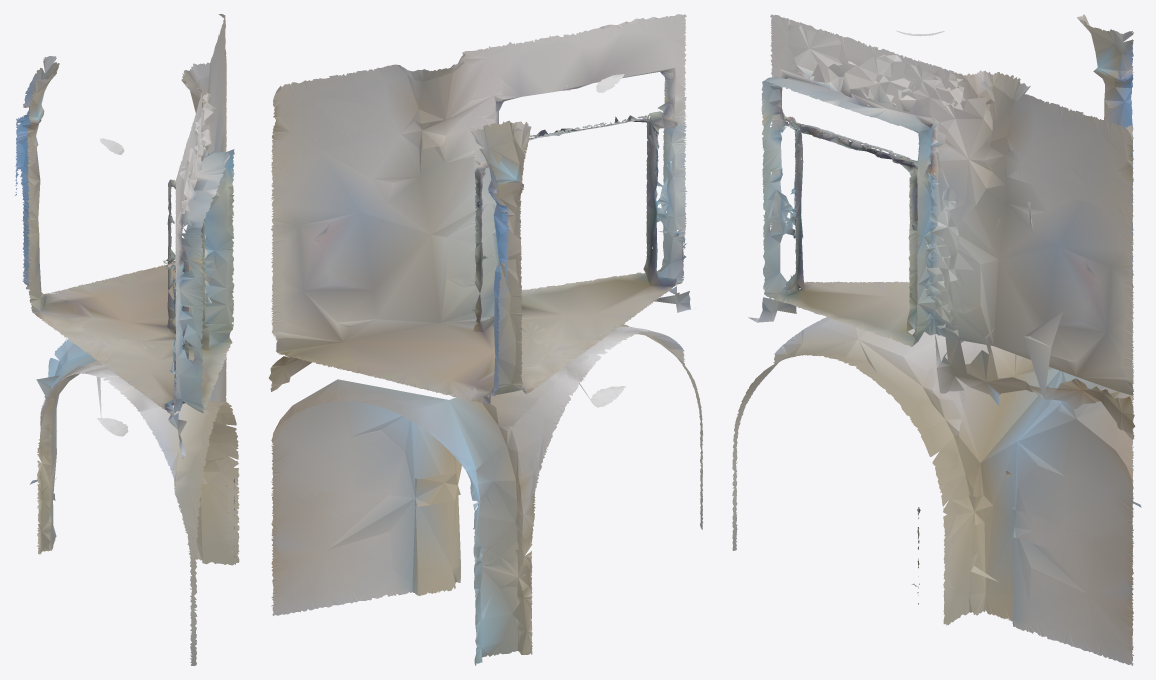
The picture shows the model from 3 angles, left to right: view 1: azimuth 30°, elevation 25°; view 2: azimuth 150°, elevation 25°; view 3: azimuth 270°, elevation 25°; orthographic projection. The views are drawn at different scales.
Size of the model in its own units: 3.57 by 7.5 by 5.17.
